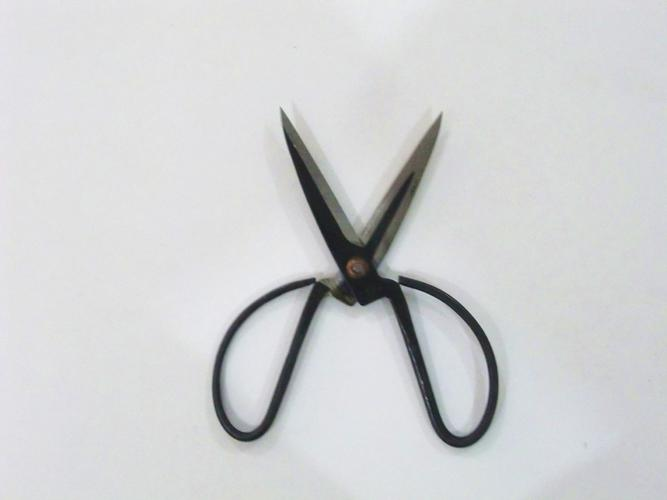scissor: (210, 107, 502, 448)
